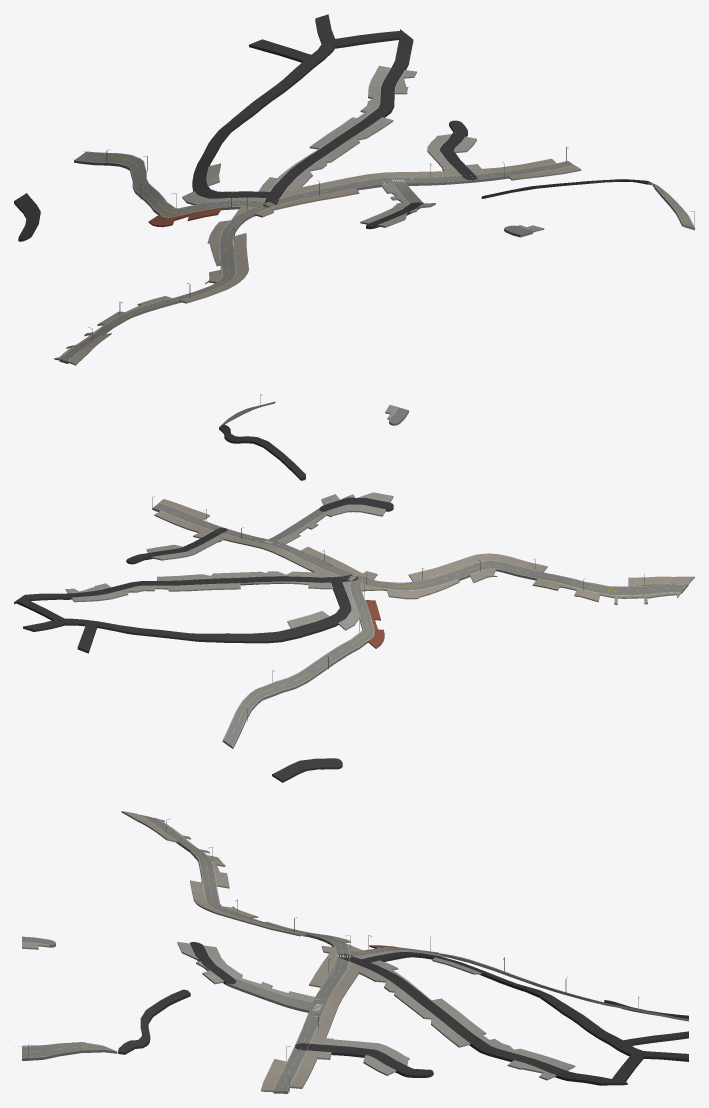
The picture shows the model from 3 angles, top to bottom: view 1: azimuth 30°, elevation 25°; view 2: azimuth 150°, elevation 25°; view 3: azimuth 270°, elevation 25°; orthographic projection. The views are drawn at different scales.
Size of the model in its own units: 294 by 82.83 by 298.
